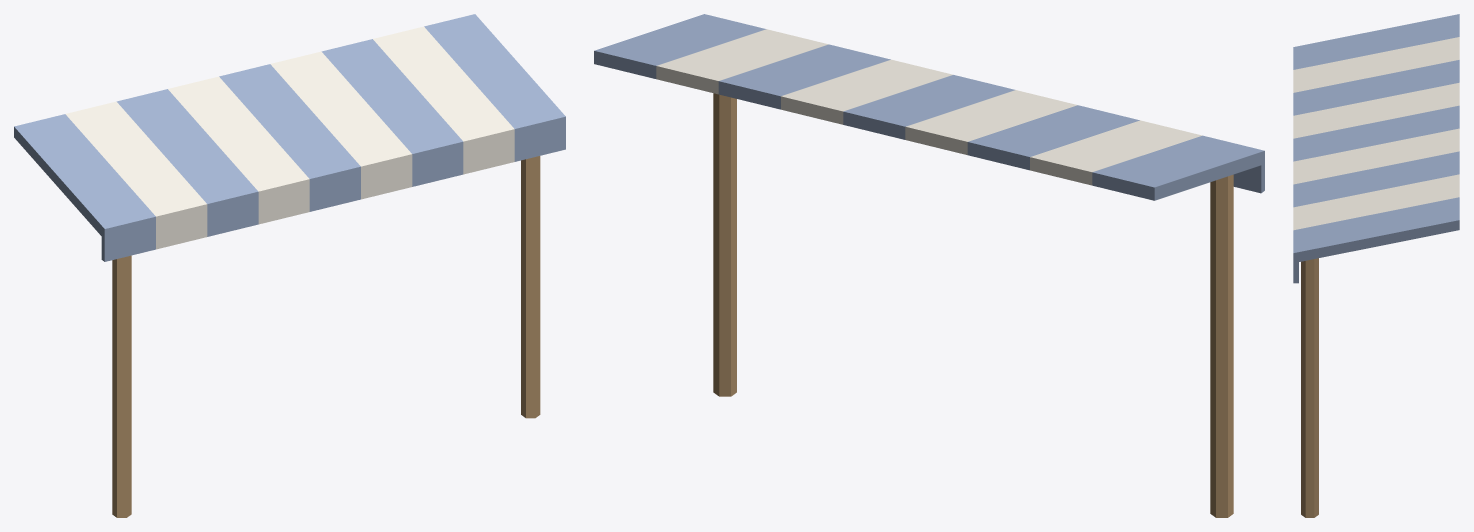
Rendered from awning_w4_4_brick.glb.
3 renders of one model, left to right at view 1: azimuth 30°, elevation 25°; view 2: azimuth 150°, elevation 25°; view 3: azimuth 270°, elevation 25°, orthographic. The views are drawn at different scales.
Parts seen in each view (by area): view 1: Player; view 2: Player; view 3: Player.
Boxes of the visible parts, left/top/right/bottom form: Player: left=14, top=14, right=565, bottom=517; Player: left=594, top=14, right=1264, bottom=517; Player: left=1293, top=14, right=1459, bottom=517.
Bounding box in the file's own units: 4.4 × 3.05 × 1.5.
